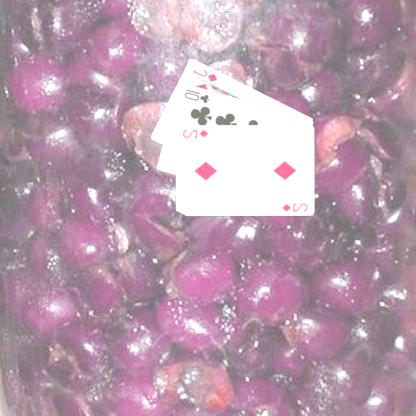10C: (183, 86, 213, 104)
2D: (281, 200, 310, 213), (182, 126, 211, 138)
JD: (191, 66, 221, 83)
